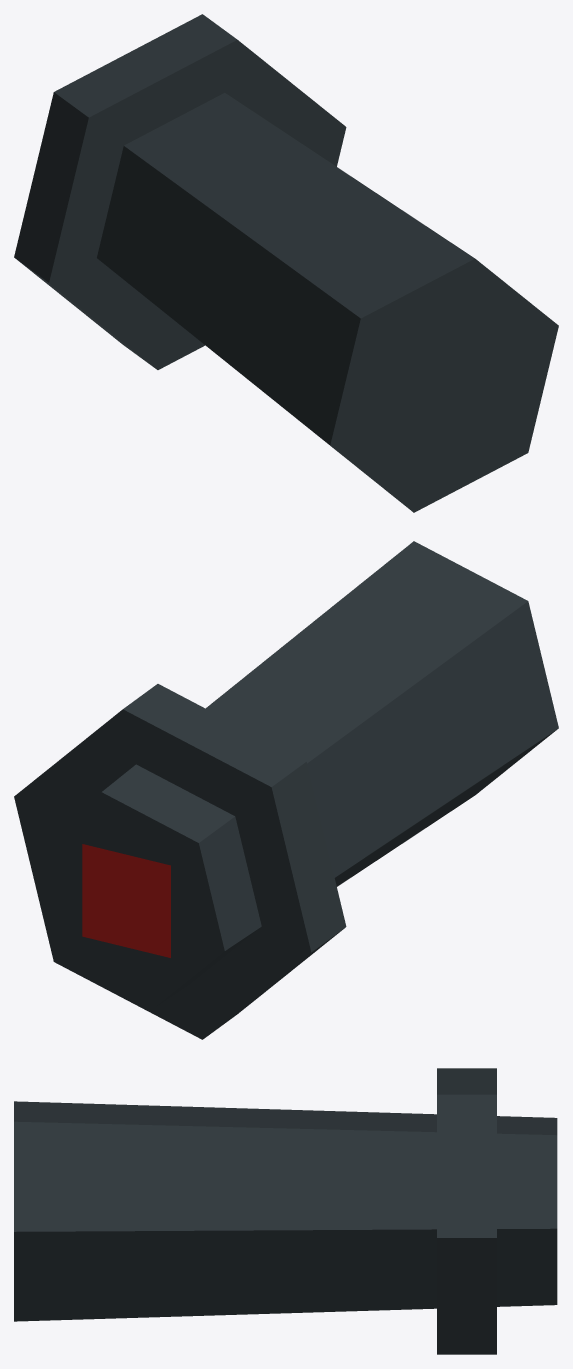
The picture shows the model from 3 angles, top to bottom: view 1: azimuth 30°, elevation 25°; view 2: azimuth 150°, elevation 25°; view 3: azimuth 270°, elevation 25°; orthographic projection. The views are drawn at different scales.
Parts seen in each view (by area): view 1: mount; view 2: mount; view 3: mount.
Part boxes in pixels (box(x1,y1,x2,y2)): mount: box(14, 14, 558, 512); mount: box(14, 541, 558, 1039); mount: box(14, 1068, 557, 1354).
Bounding box in the file's own units: 4.9 × 4.9 × 9.07.
